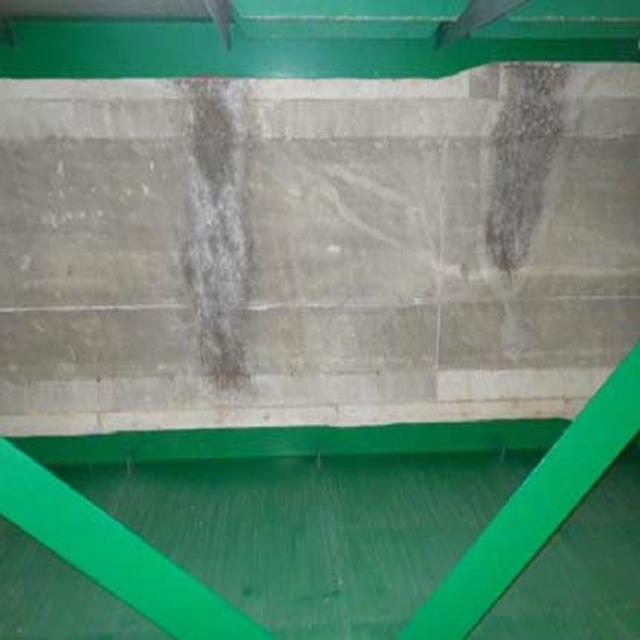leakage: (186, 84, 277, 379), (477, 63, 584, 307)
